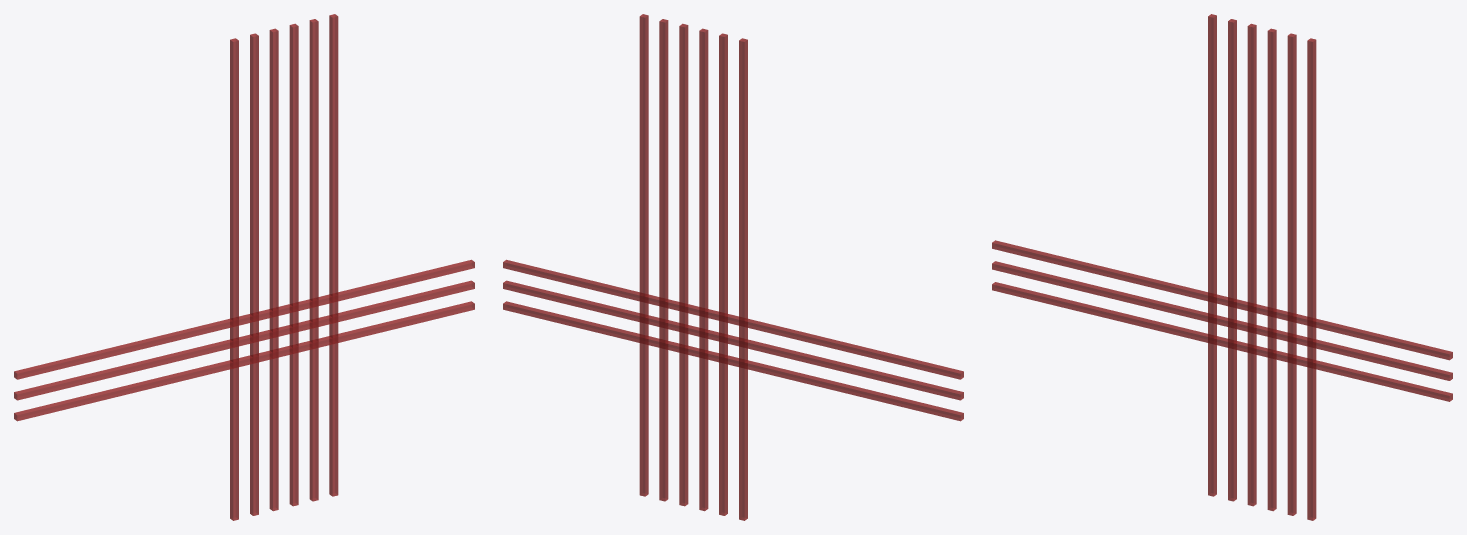
Rendered from Lvl_006.fbx.
The picture shows the model from 3 angles, left to right: view 1: azimuth 30°, elevation 25°; view 2: azimuth 150°, elevation 25°; view 3: azimuth 330°, elevation 25°; orthographic projection.
Parts seen in each view (by area): view 1: pCube6, pCube5, pCube3, pCube4, pCube15, pCube14, pCube13, pCube2, pCube7; view 2: pCube6, pCube5, pCube3, pCube4, pCube15, pCube14, pCube13, pCube2, pCube7; view 3: pCube5, pCube4, pCube3, pCube6, pCube13, pCube14, pCube15, pCube7, pCube2.
Boxes of the visible parts, bbox=[...] form: pCube6: bbox=[329, 14, 338, 496]; pCube5: bbox=[309, 19, 318, 501]; pCube3: bbox=[269, 28, 278, 511]; pCube4: bbox=[289, 23, 298, 506]; pCube15: bbox=[14, 259, 474, 379]; pCube14: bbox=[14, 280, 474, 400]; pCube13: bbox=[14, 301, 474, 421]; pCube2: bbox=[250, 33, 258, 515]; pCube7: bbox=[230, 38, 238, 520]; pCube6: bbox=[639, 14, 648, 496]; pCube5: bbox=[659, 19, 668, 501]; pCube3: bbox=[699, 28, 708, 511]; pCube4: bbox=[679, 23, 688, 506]; pCube15: bbox=[503, 259, 963, 379]; pCube14: bbox=[503, 280, 963, 400]; pCube13: bbox=[503, 301, 963, 421]; pCube2: bbox=[719, 33, 727, 515]; pCube7: bbox=[739, 38, 747, 520]; pCube5: bbox=[1287, 33, 1296, 515]; pCube4: bbox=[1267, 28, 1276, 511]; pCube3: bbox=[1247, 23, 1256, 506]; pCube6: bbox=[1307, 38, 1316, 520]; pCube13: bbox=[992, 282, 1452, 401]; pCube14: bbox=[992, 261, 1452, 380]; pCube15: bbox=[992, 240, 1452, 360]; pCube7: bbox=[1208, 14, 1216, 496]; pCube2: bbox=[1228, 19, 1236, 501].
Bounding box in the file's own units: 2000 × 2000 × 25.
